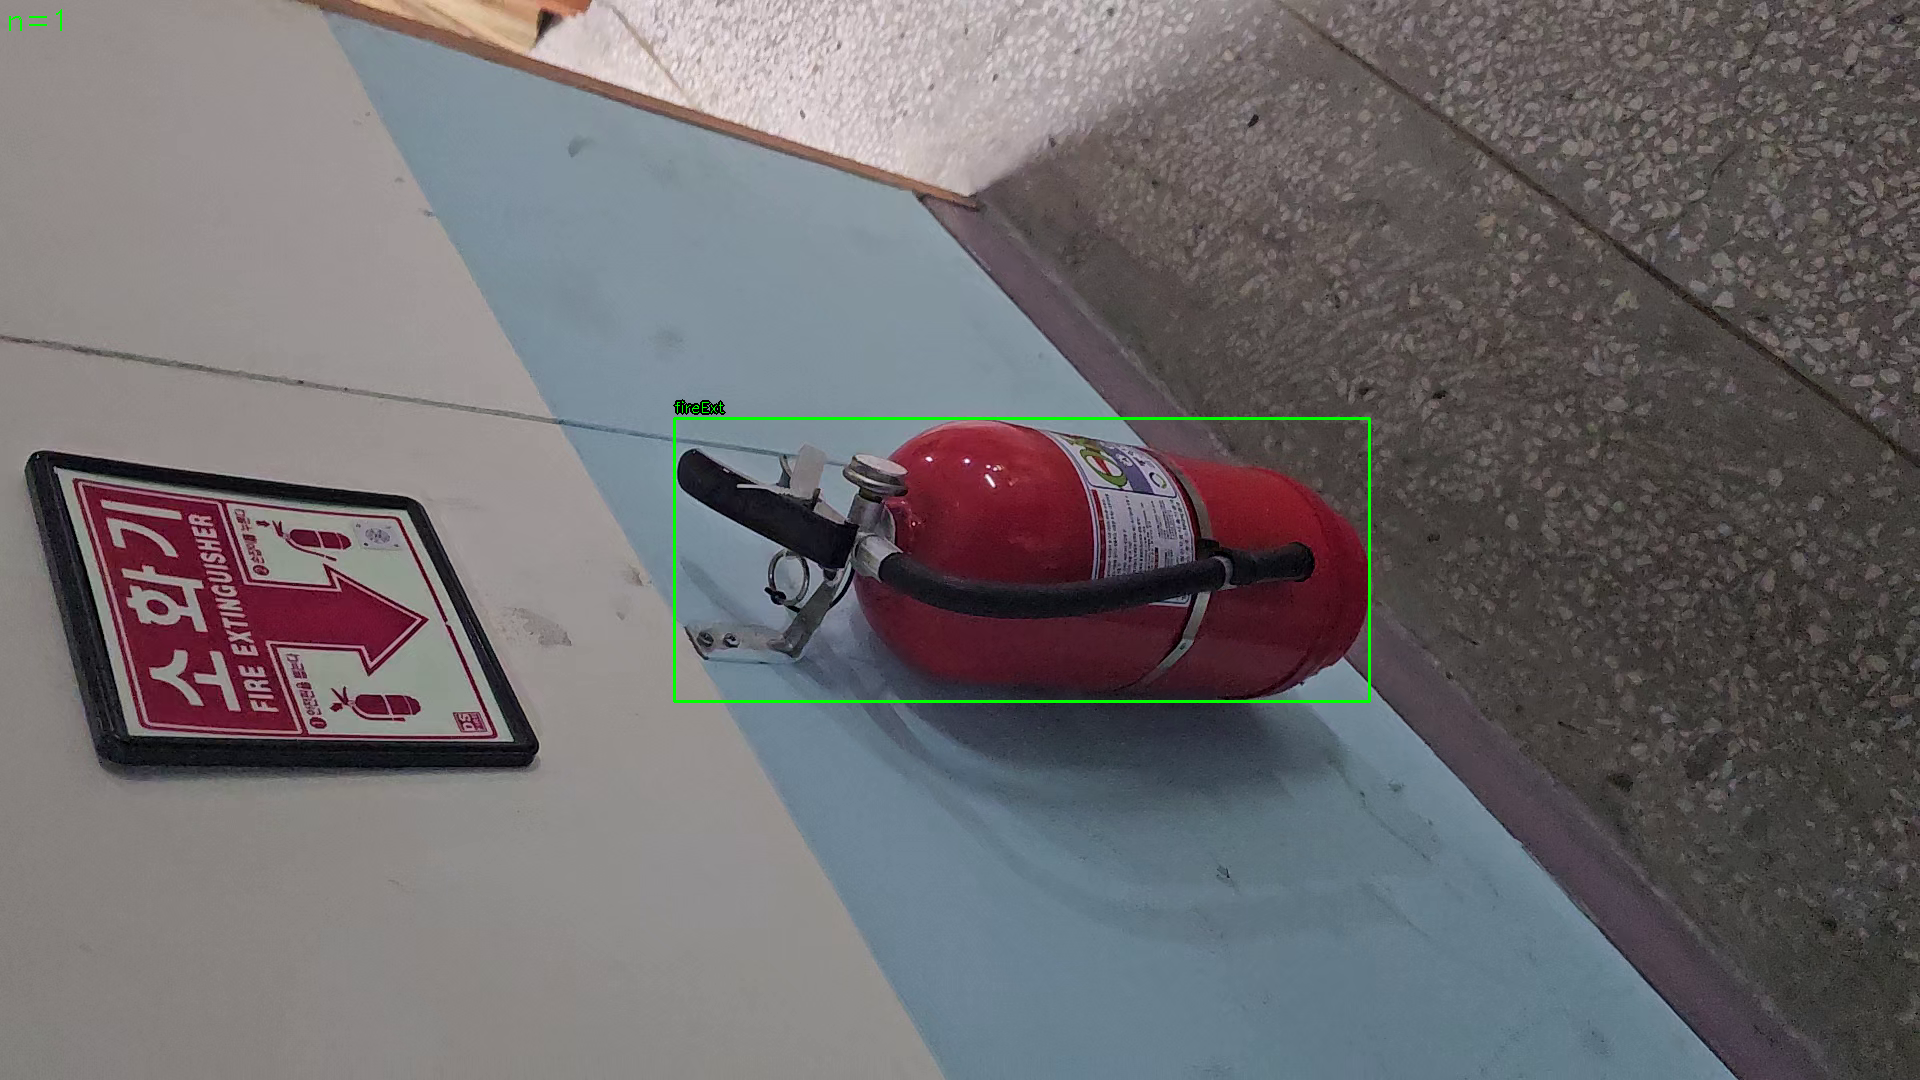lane: (674, 418, 1370, 702)
